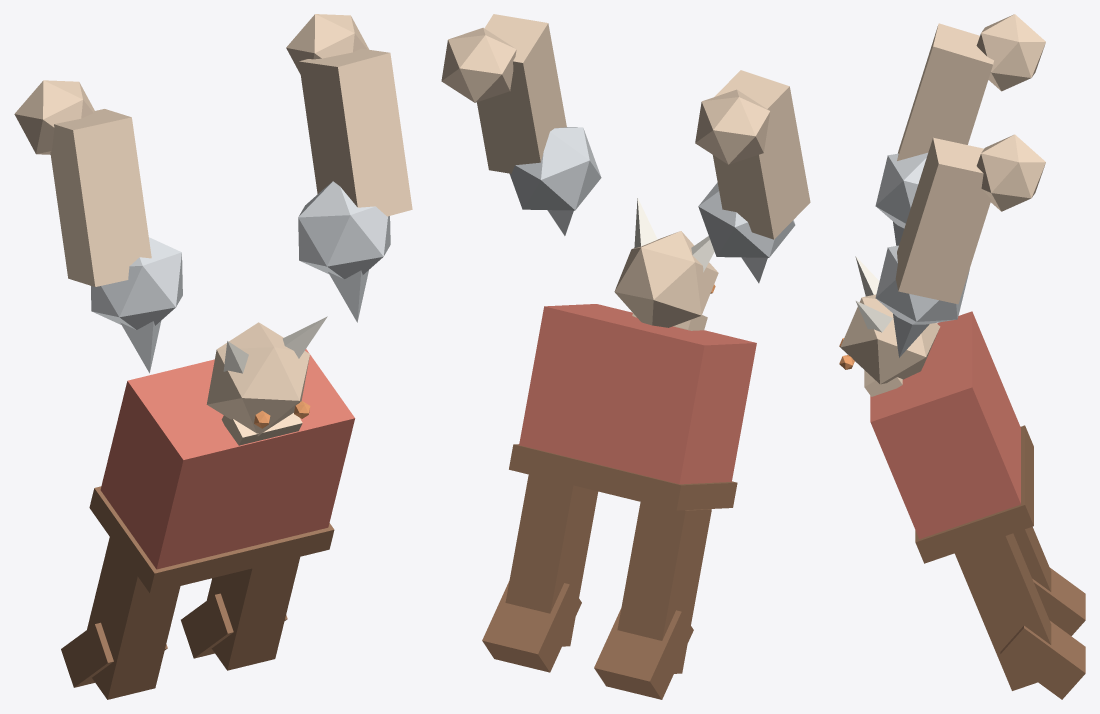
The model's file is npcpose_brute_attack_08.glb.
3 views of the same model, side by side, from view 1: azimuth 30°, elevation 25°; view 2: azimuth 150°, elevation 25°; view 3: azimuth 270°, elevation 25° (orthographic). The views are drawn at different scales.
Visible parts, largest first — view 1: npcpose; view 2: npcpose; view 3: npcpose.
Part boxes in pixels (x1=…): npcpose: x1=14, y1=14, x2=412, y2=699; npcpose: x1=441, y1=14, x2=810, y2=699; npcpose: x1=839, y1=14, x2=1085, y2=699.
Bounding box in the file's own units: 1.43 × 2.57 × 0.9896.
